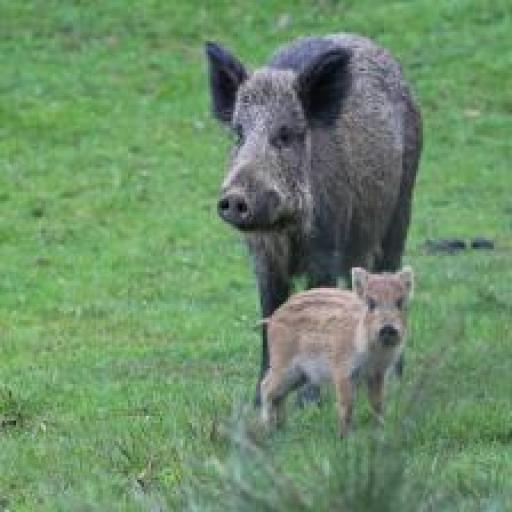Pig: (203, 32, 423, 403), (252, 265, 412, 437)
